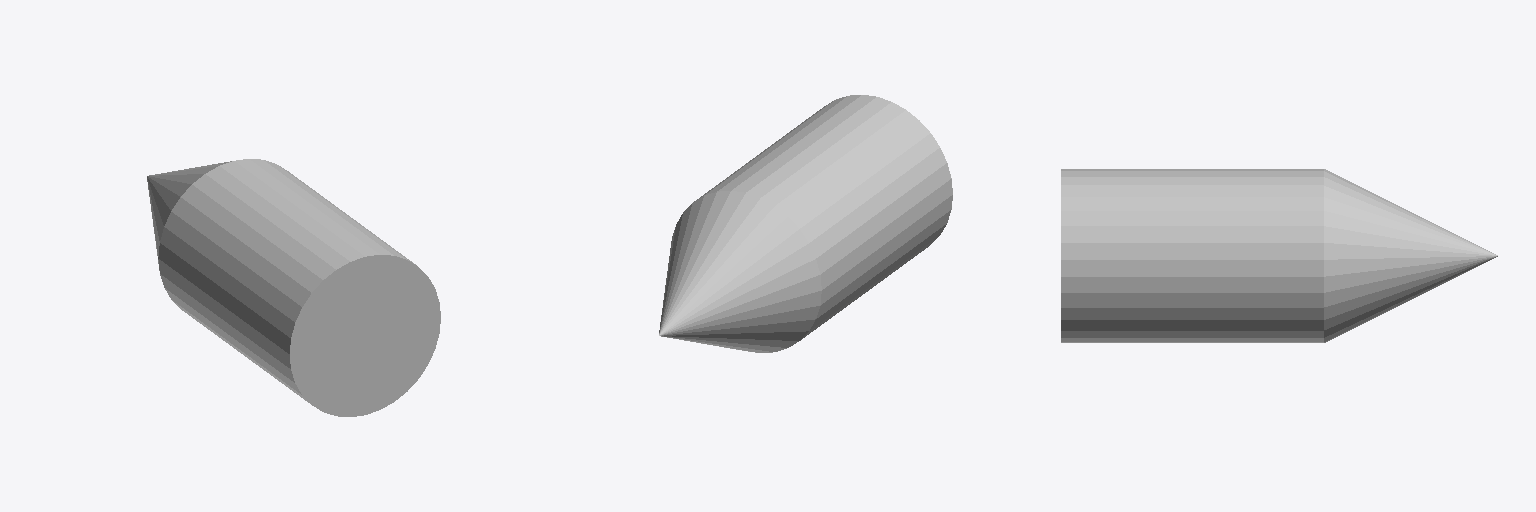
The model's file is bullet.obj.
3 views of the same model, side by side, from view 1: azimuth 30°, elevation 25°; view 2: azimuth 150°, elevation 25°; view 3: azimuth 270°, elevation 25° (orthographic).
Visible parts, largest first — view 1: 円錐; view 2: 円錐; view 3: 円錐.
Part boxes in pixels (x1,y1,x2,y2): 円錐: (147, 159, 440, 416); 円錐: (659, 95, 952, 352); 円錐: (1061, 169, 1497, 342).
Size of the model in its own units: 2 by 2 by 5.